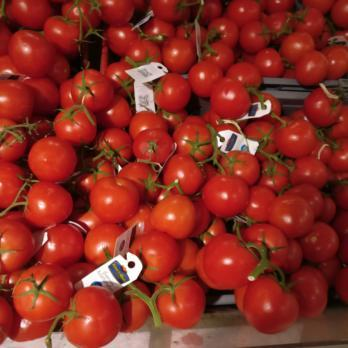Tomato: (0, 3, 348, 345)
